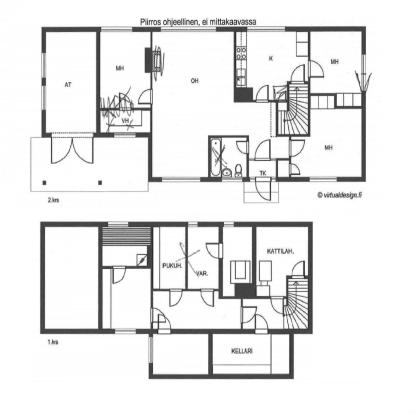door: (52, 132, 96, 164), (254, 177, 278, 202), (252, 138, 272, 162), (237, 306, 260, 324), (288, 138, 306, 160), (306, 61, 326, 80), (254, 311, 268, 336), (165, 288, 184, 306), (204, 242, 224, 259), (158, 314, 173, 334), (112, 265, 126, 286), (290, 63, 304, 83), (270, 297, 285, 315), (136, 91, 155, 104), (293, 258, 305, 278), (199, 288, 214, 304), (255, 85, 268, 103), (151, 308, 166, 323), (236, 138, 249, 152), (289, 163, 302, 177)
window: (161, 26, 216, 34), (246, 24, 286, 33), (360, 53, 368, 92), (162, 176, 201, 183), (310, 175, 339, 184), (101, 26, 132, 33), (114, 328, 136, 336), (106, 220, 128, 228), (40, 51, 46, 77), (114, 132, 136, 138), (42, 85, 46, 111), (187, 221, 198, 228), (223, 221, 234, 228)
zone: (154, 31, 290, 176), (31, 136, 149, 190), (287, 94, 362, 176), (45, 224, 100, 330), (44, 29, 96, 134), (236, 30, 310, 102), (99, 30, 150, 107), (152, 287, 241, 330), (255, 225, 307, 294), (212, 333, 290, 375), (309, 31, 362, 92), (102, 269, 152, 328), (242, 296, 309, 331), (154, 334, 209, 373), (223, 224, 252, 297), (102, 223, 149, 267), (154, 225, 186, 289), (187, 226, 219, 289), (101, 110, 149, 132)
